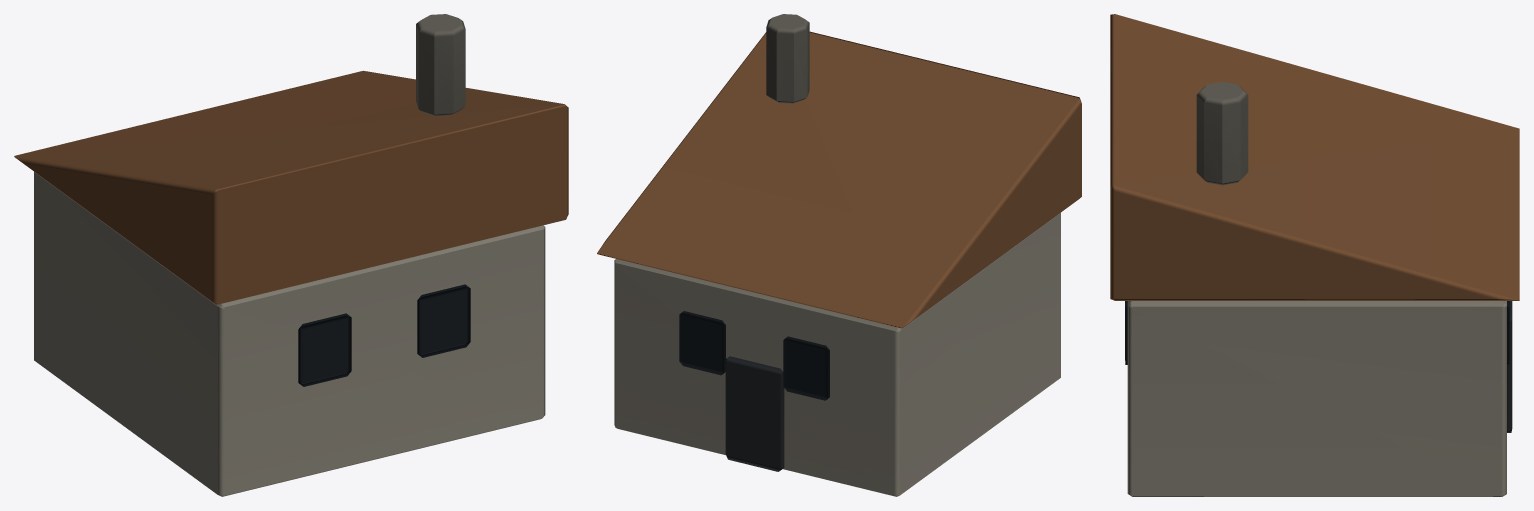
Rendered from civilian_structure.glb.
3 views of the same model, side by side, from view 1: azimuth 30°, elevation 25°; view 2: azimuth 150°, elevation 25°; view 3: azimuth 270°, elevation 25° (orthographic). The views are drawn at different scales.
Parts seen in each view (by area): view 1: Body; view 2: Body; view 3: Body.
Part boxes in pixels (bbox=[...]): Body: bbox=[14, 14, 568, 496]; Body: bbox=[597, 14, 1081, 496]; Body: bbox=[1110, 14, 1519, 496].
Size of the model in its own units: 4.8 by 4.85 by 4.75.
